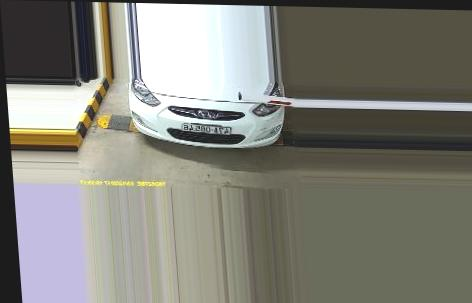License_Plate: (179, 123, 234, 135)
